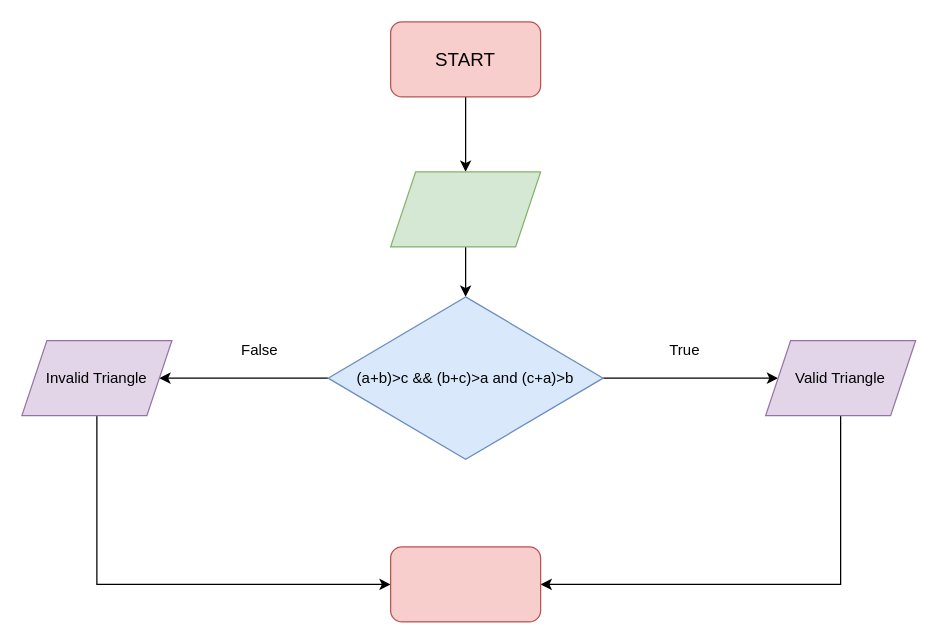
This 938x644 diagram has some shape labels left out. Each missing label, with the centre of its shape:
"END" belongs at [465,584].
"INPUT a, b, c" belongs at [465,209].
